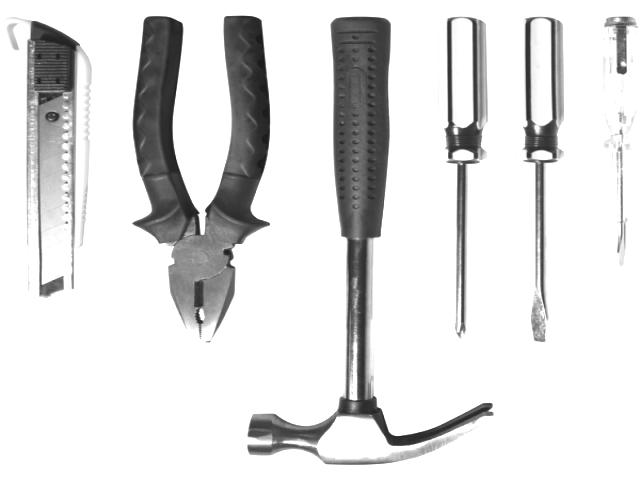Hammer: (248, 18, 492, 464)
Pliers: (134, 16, 270, 342)
Screwdriver: (438, 17, 488, 338), (515, 18, 564, 342), (602, 17, 639, 266)
Utility knife: (1, 17, 91, 298)
